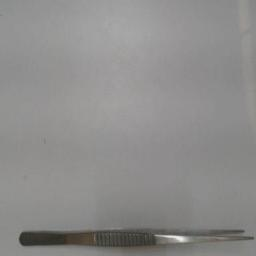DeBakey Dissector: (11, 218, 255, 254)
